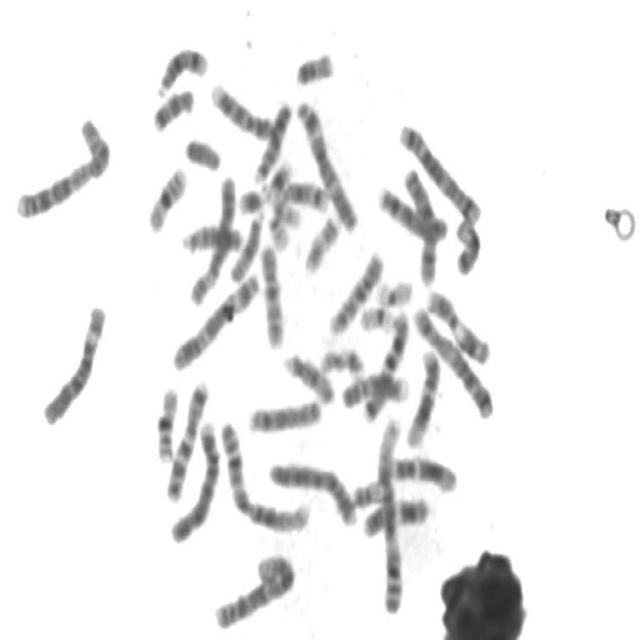A1: (216, 413, 312, 536), (372, 408, 405, 614)
A2: (10, 109, 114, 222), (208, 545, 298, 632)
A3: (168, 264, 262, 373), (291, 91, 361, 233)
B4: (165, 412, 221, 545), (263, 453, 360, 528)
B5: (408, 296, 496, 422), (394, 114, 484, 226)
C10: (324, 244, 386, 337), (255, 235, 288, 351)
C11: (421, 281, 493, 367), (358, 489, 431, 540)
C12: (402, 343, 442, 450), (374, 455, 457, 498)
C6: (37, 295, 108, 428), (185, 168, 238, 308)
C7: (357, 300, 412, 425), (162, 372, 212, 504)
C8: (373, 177, 450, 244), (243, 391, 324, 436)
C9: (206, 74, 277, 142), (336, 364, 411, 412)
D13: (249, 92, 293, 186), (176, 216, 245, 256)
D14: (152, 38, 210, 99), (276, 173, 331, 214)
D15: (279, 345, 337, 407), (224, 204, 266, 283)
E16: (142, 156, 189, 234), (150, 378, 180, 464)
E17: (299, 206, 342, 276), (316, 338, 366, 378)
E18: (147, 78, 196, 134), (451, 210, 484, 277)
F19: (371, 271, 415, 309), (355, 296, 396, 335)
F20: (290, 42, 336, 88), (352, 480, 389, 508)
G21: (262, 153, 295, 201), (233, 177, 269, 217)
G22: (268, 188, 303, 230), (264, 206, 292, 252)
X: (398, 160, 439, 288)
Y: (180, 130, 223, 173)
